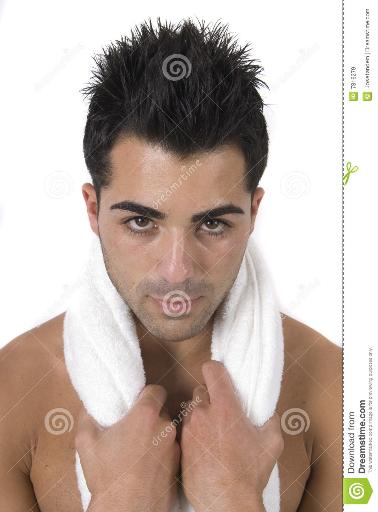left_eye: (197, 217, 239, 237)
left_lip_corner: (193, 293, 208, 304)
right_eye: (119, 215, 161, 236)
right_lip_corner: (146, 294, 157, 304)
